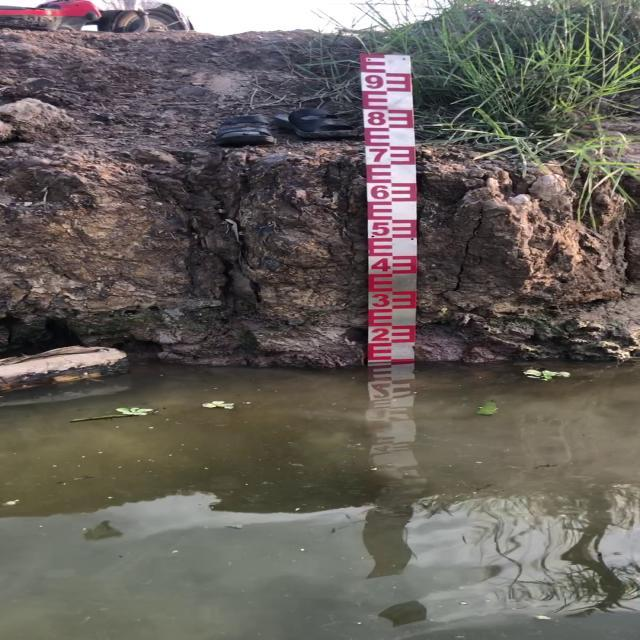ruler: (342, 41, 448, 377)
value: (362, 70, 388, 94), (361, 106, 389, 128), (362, 144, 390, 166), (367, 217, 393, 239), (367, 181, 392, 203), (369, 288, 393, 310), (369, 253, 393, 274), (369, 323, 392, 344)
